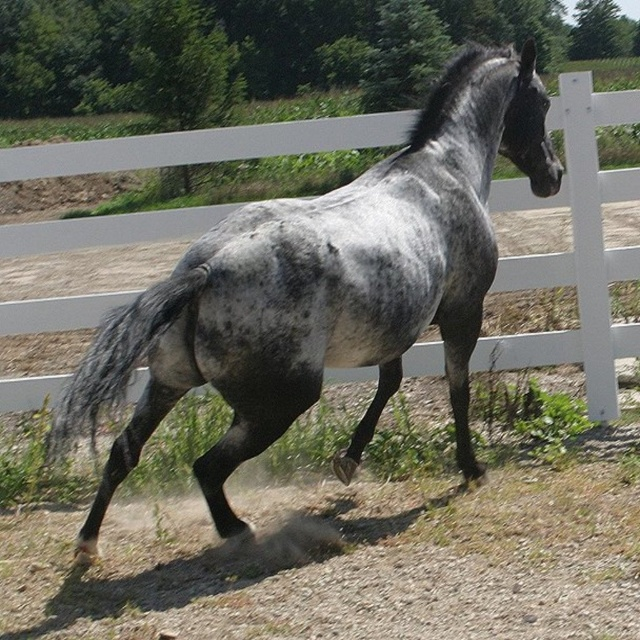Horse: (39, 35, 564, 566)
